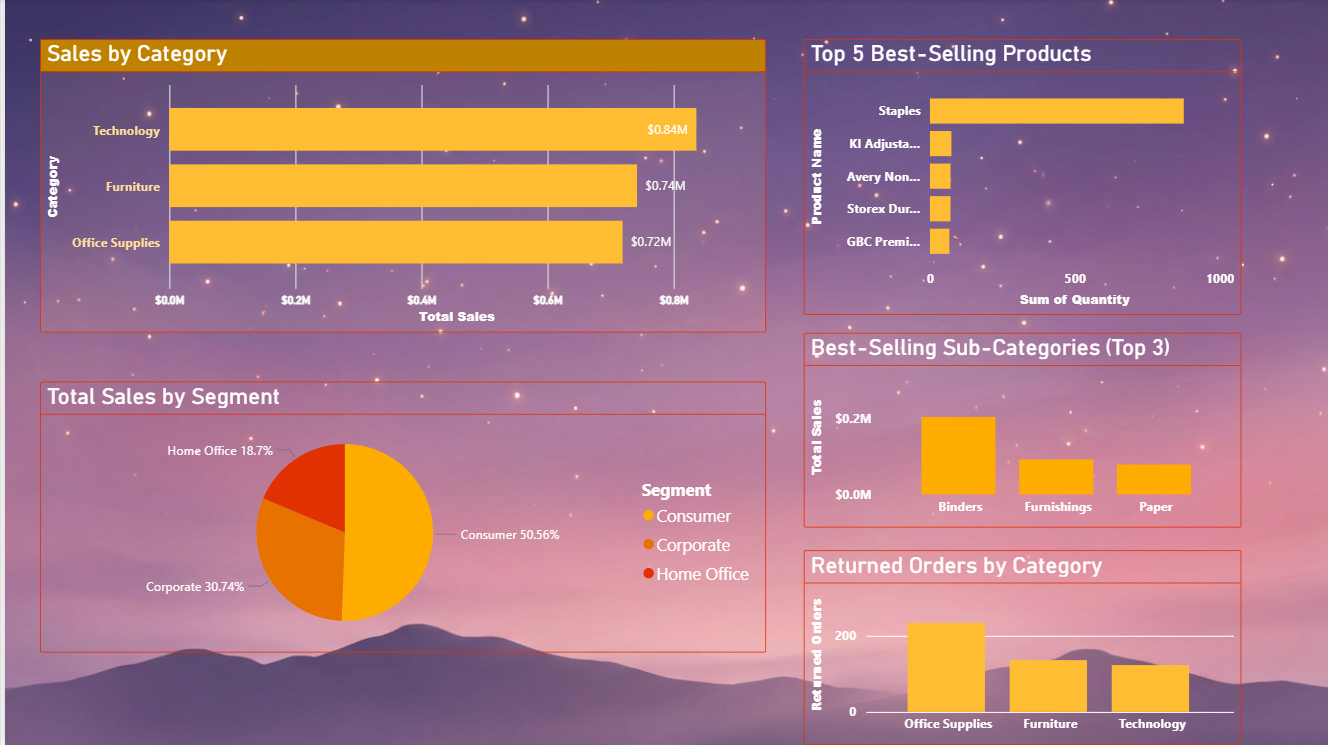

Layout of this report page (visuals, bound fields, positions):
{"tool":"powerbi","page":{"name":"sales","canvas":[1280,720],"ordinal":2},"visuals":[{"type":"barChart","title":"Sales by Category","fields":{"Category":["Orders.Category"],"Y":["Orders.Total Sales"]},"box":[33.8,38.6,700.9,283.5],"z":0},{"type":"pieChart","fields":{"Y":["Orders.Total Sales"],"Category":["Orders.Segment"]},"box":[33.8,369.2,700.9,261.8],"z":1000},{"type":"barChart","title":"Top 5 Best-Selling Products","fields":{"Category":["Orders.Product Name"],"Y":["Sum(Orders.Quantity)"]},"box":[770.9,38.6,422.3,266.6],"z":2000},{"type":"lineStackedColumnComboChart","title":"Best-Selling Sub-Categories (Top 3)","fields":{"Category":["Orders.Sub-Category"],"Y":["Orders.Total Sales"]},"box":[770.9,322.1,422.3,188.2],"z":3000},{"type":"columnChart","fields":{"Category":["Orders.Category"],"Y":["Returns.Returned Orders"]},"box":[770.9,532,422.3,188.2],"z":4000}]}

Visuals, with their boxes in screenshot pixels (x1, y1, x2, y2), scaled from the page's 1280x720 canvas onto the 1328x745 screenshot:
"Sales by Category" barChart: 35, 40, 762, 333
pieChart - Orders.Total Sales x Orders.Segment: 35, 382, 762, 653
"Top 5 Best-Selling Products" barChart: 800, 40, 1238, 316
"Best-Selling Sub-Categories (Top 3)" lineStackedColumnComboChart: 800, 333, 1238, 528
columnChart - Orders.Category x Returns.Returned Orders: 800, 550, 1238, 744
